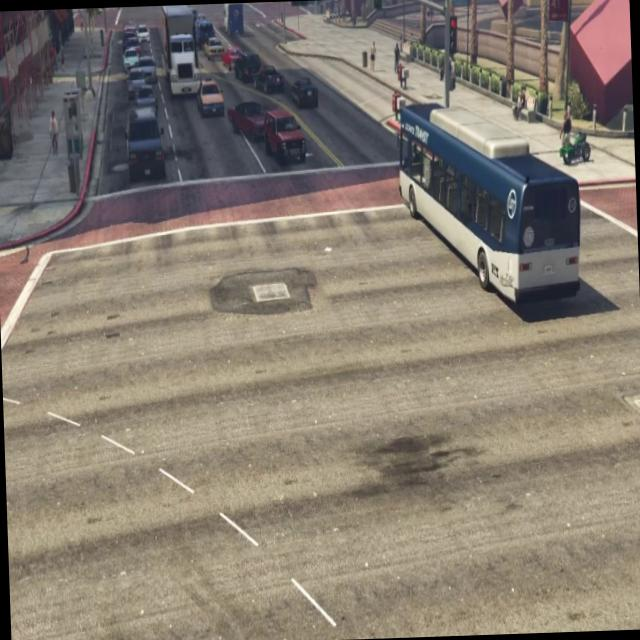Red-Signal: (446, 9, 460, 65), (370, 0, 385, 15)
